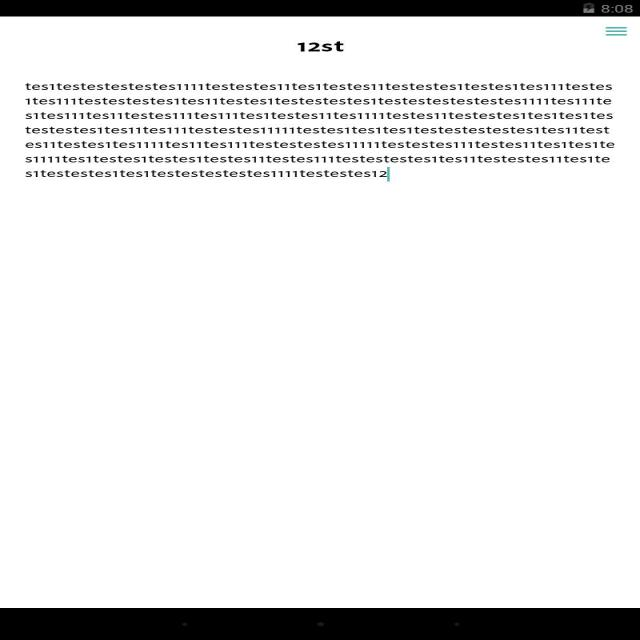button: (589, 16, 640, 46)
heading: (297, 37, 348, 57)
text: (21, 78, 620, 187)
